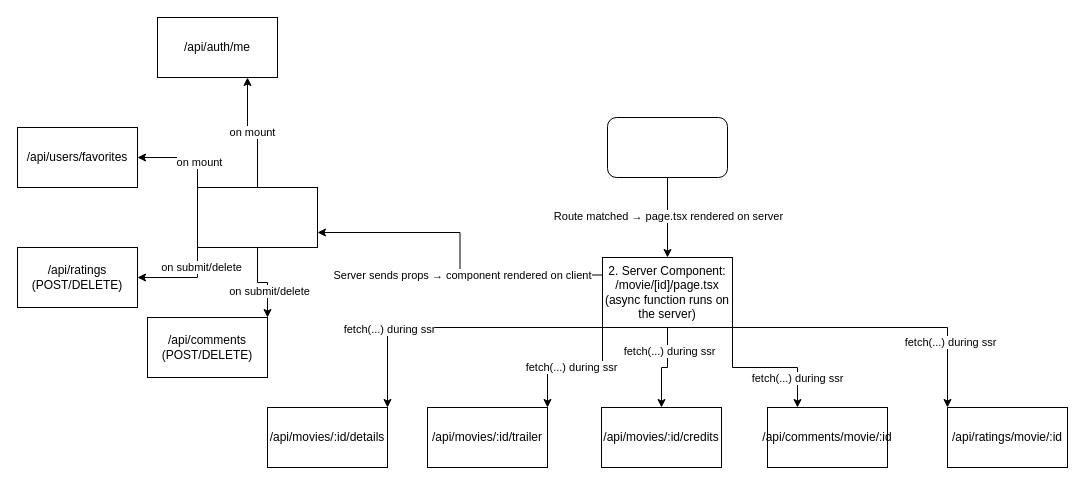
The diagram is 1085 pixels wide and 485 high, and some of its shapes have lost their labels. Each missing label, with the centre of its shape:
"1. User visits /movie/[id] (e.g., /movie/550)" belongs at pixel 667 147.
"3. Client Component: <MovieDetailClient /> (hydrated on client, runs in browser)" belongs at pixel 257 217.
